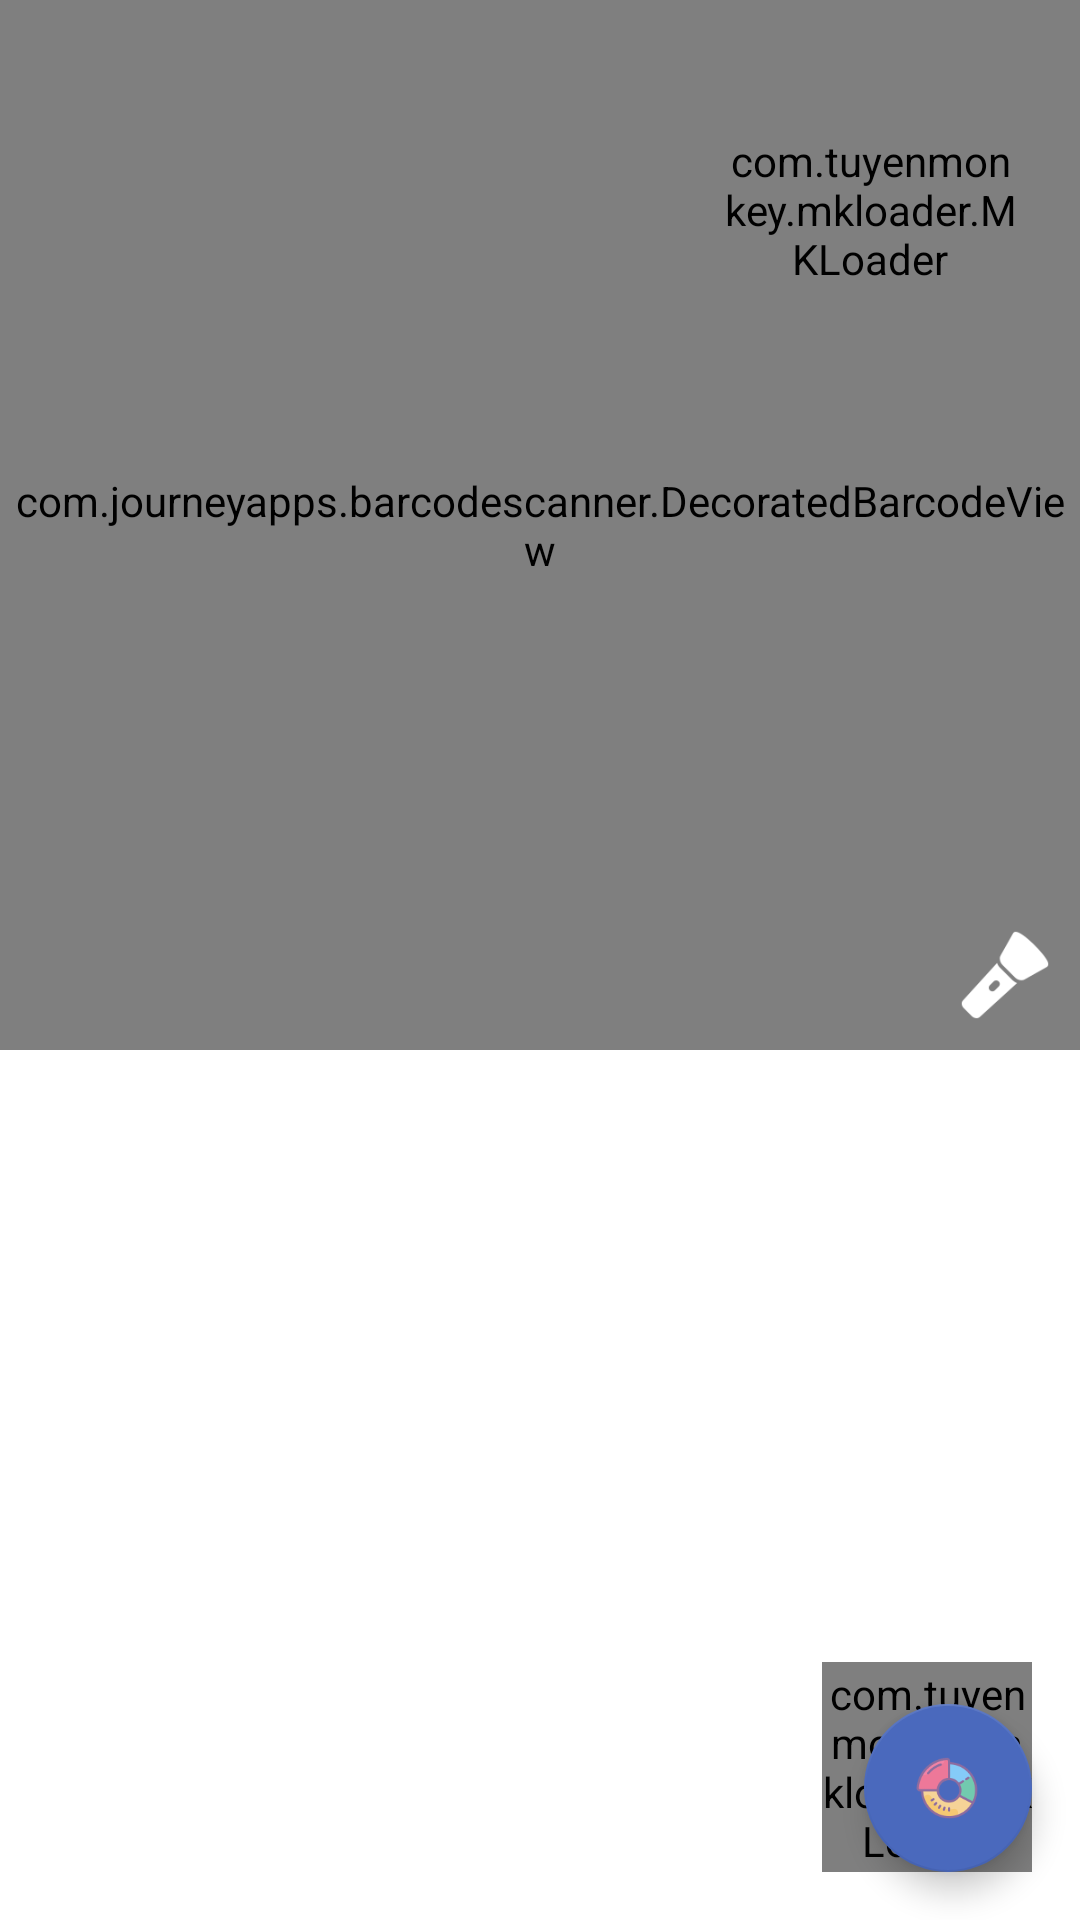

Icon bounding boxes for this 1080 × 1920 phone screenshot, format (x1, y1, x2, y2):
flashlight: (961, 932, 1048, 1018)
